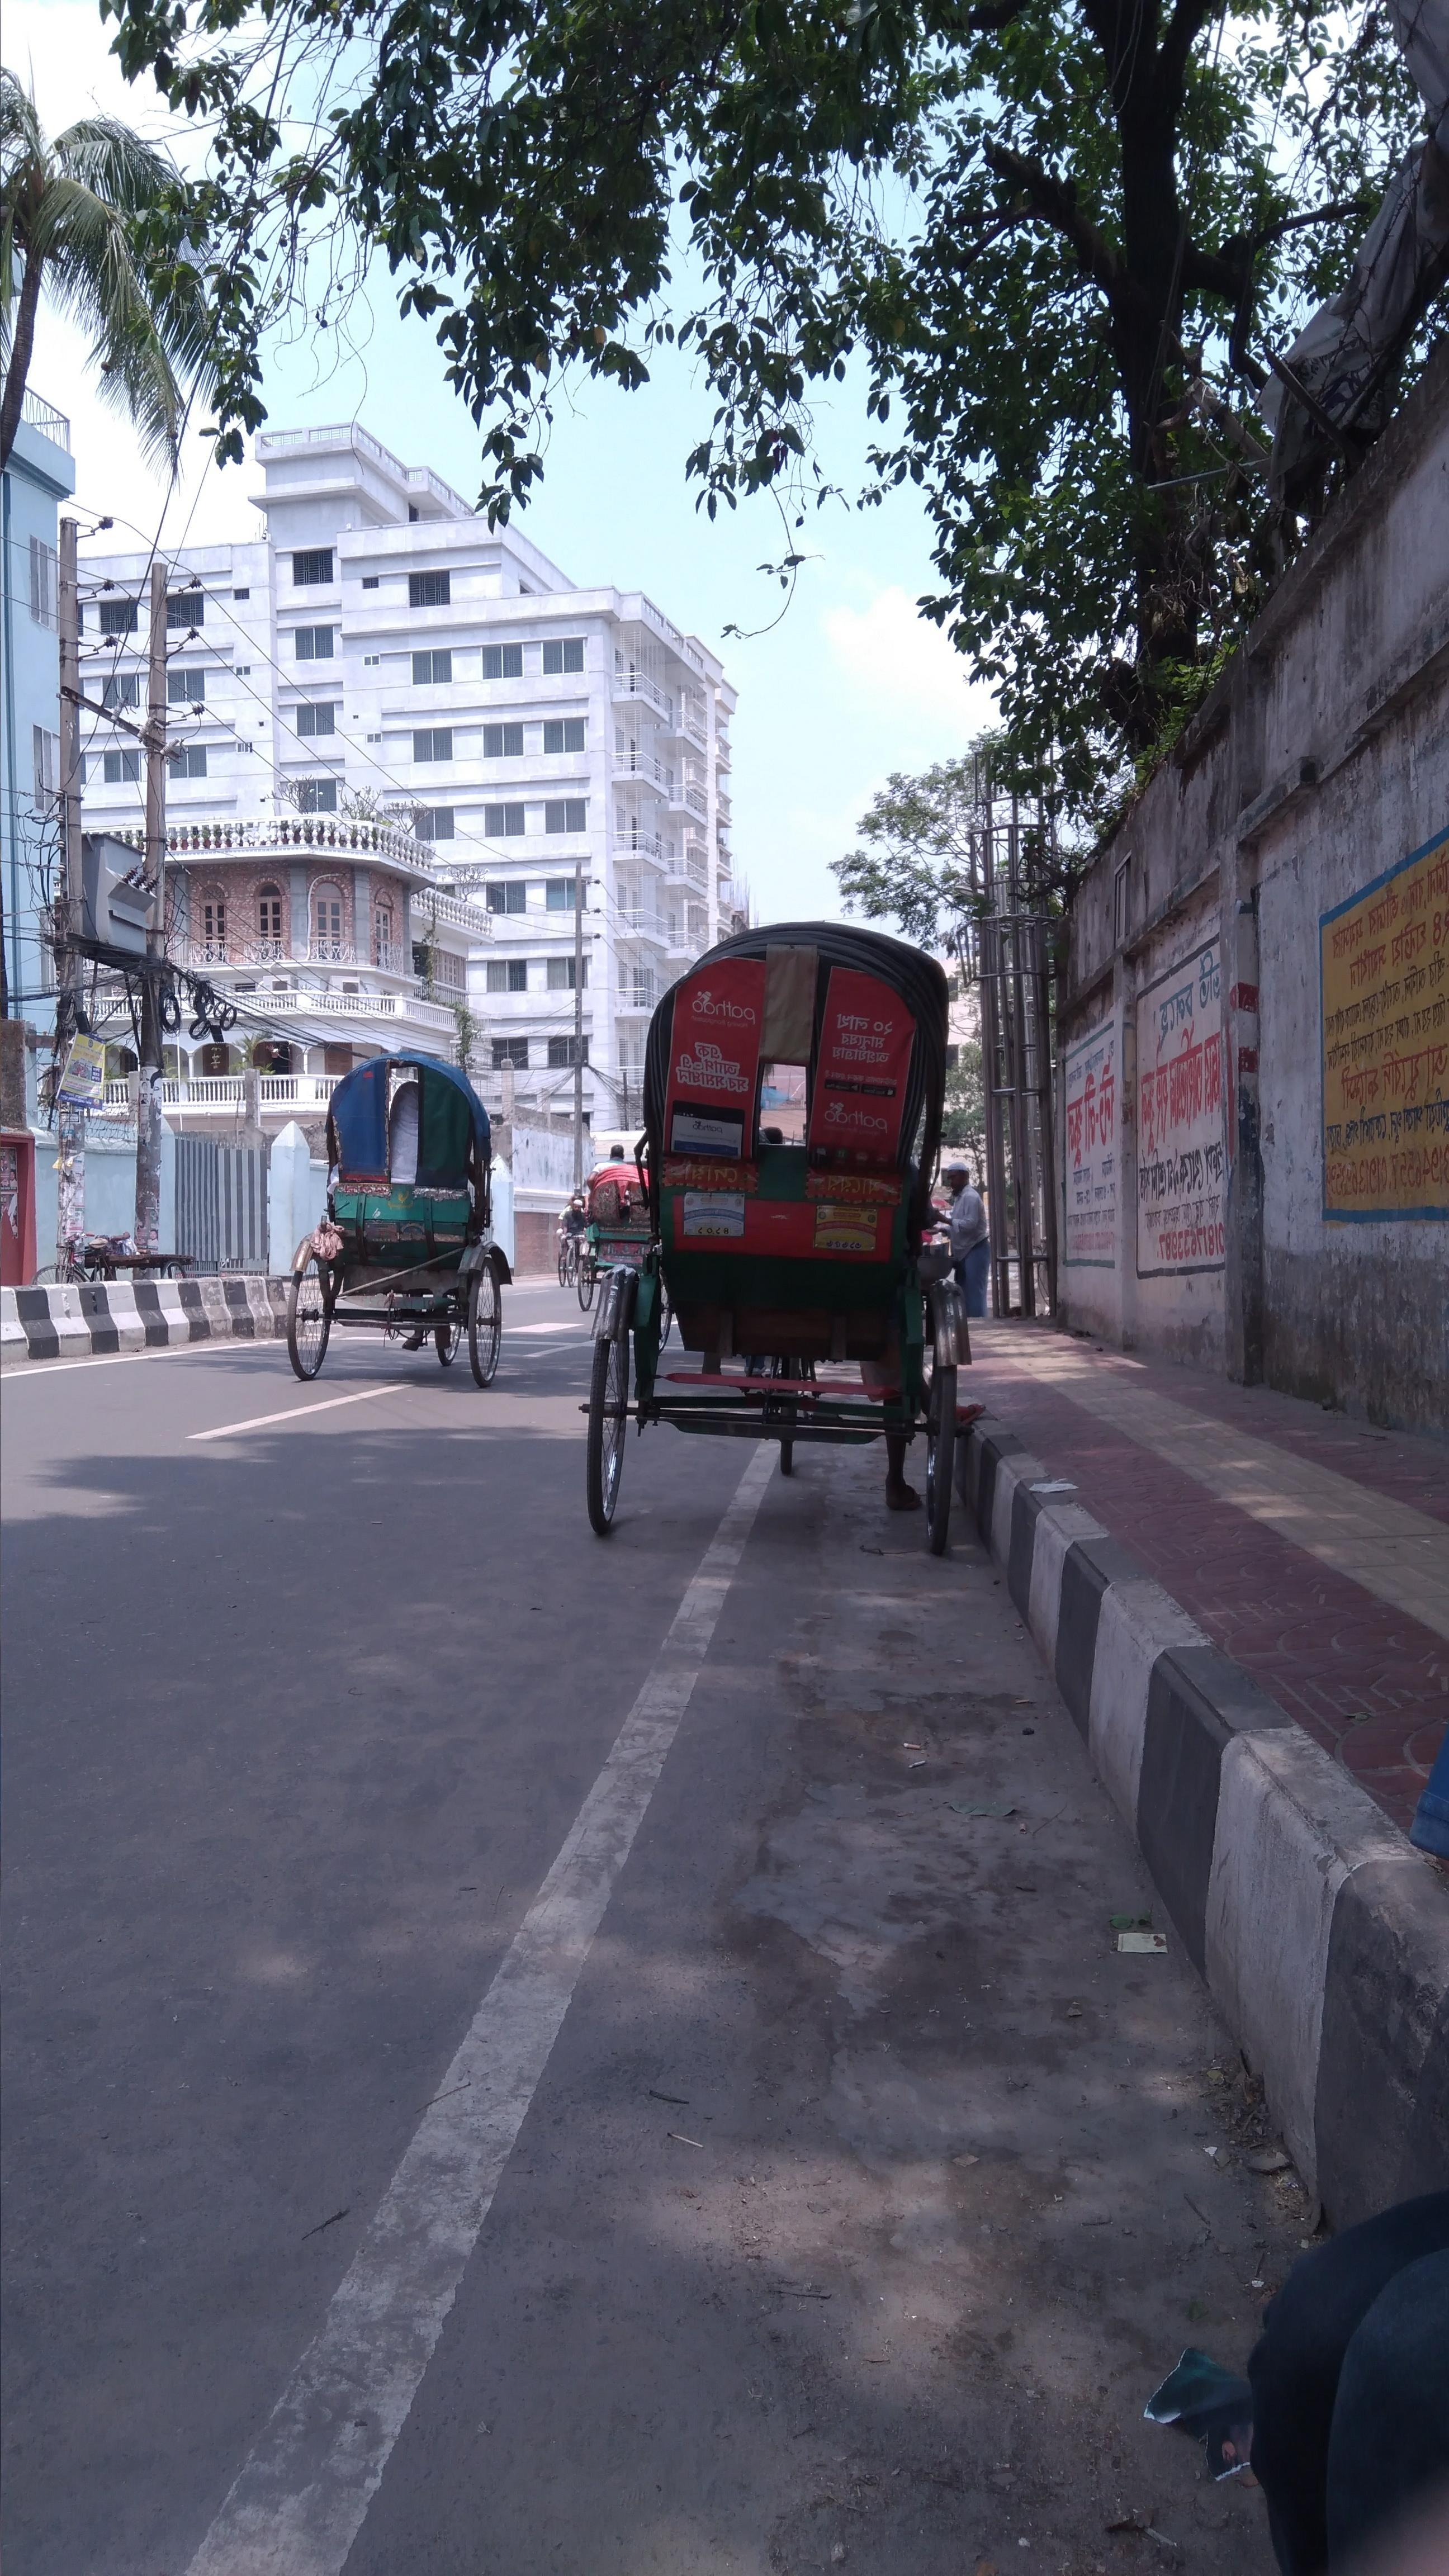Rickshaw: (580, 901, 977, 1530), (288, 1010, 525, 1361), (580, 1122, 646, 1313)
